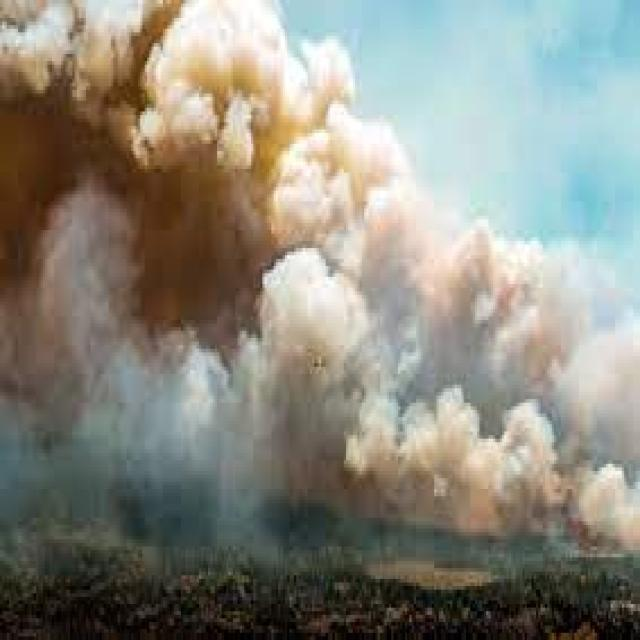Smoke: (6, 8, 264, 530), (274, 247, 640, 564)
